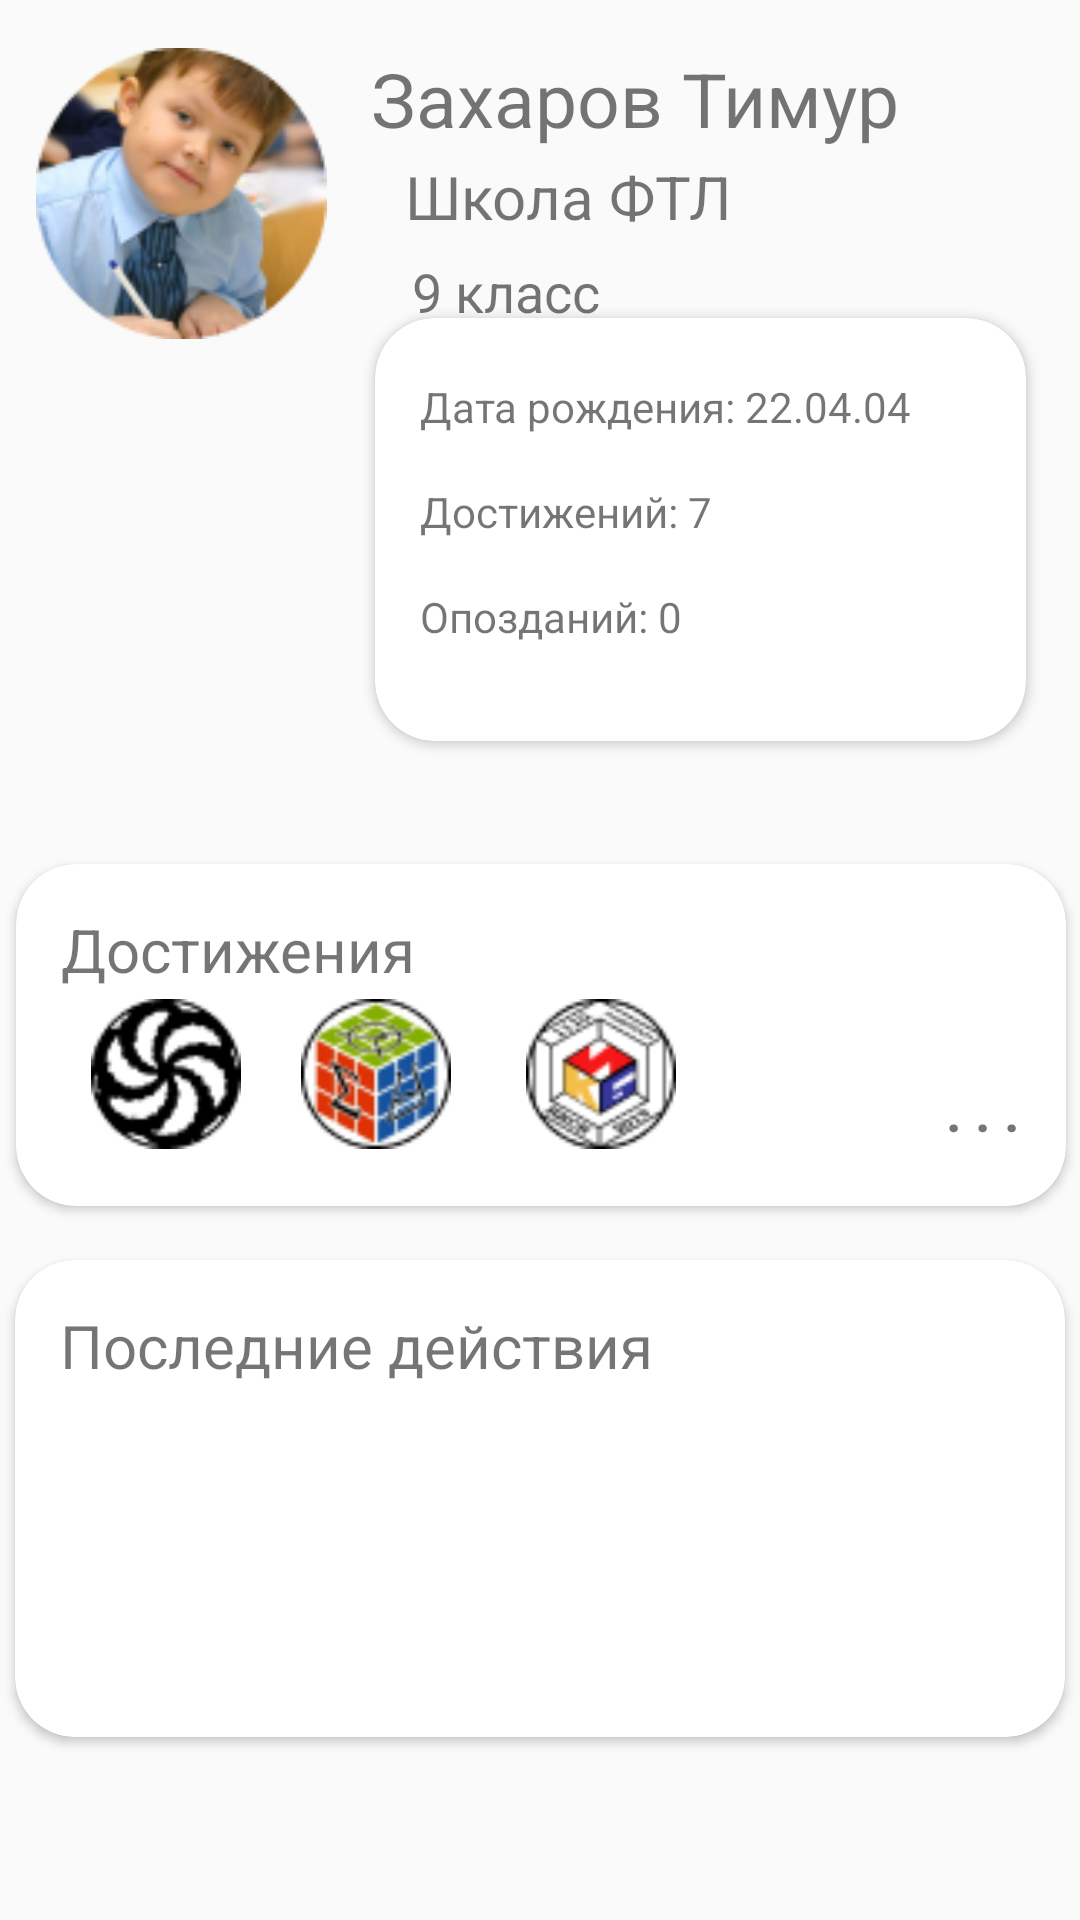

Screen size 1080 × 1920. Icon name, then its box in pixels as (x1, y1, x2, y2):
profile photo: (36, 48, 327, 339)
